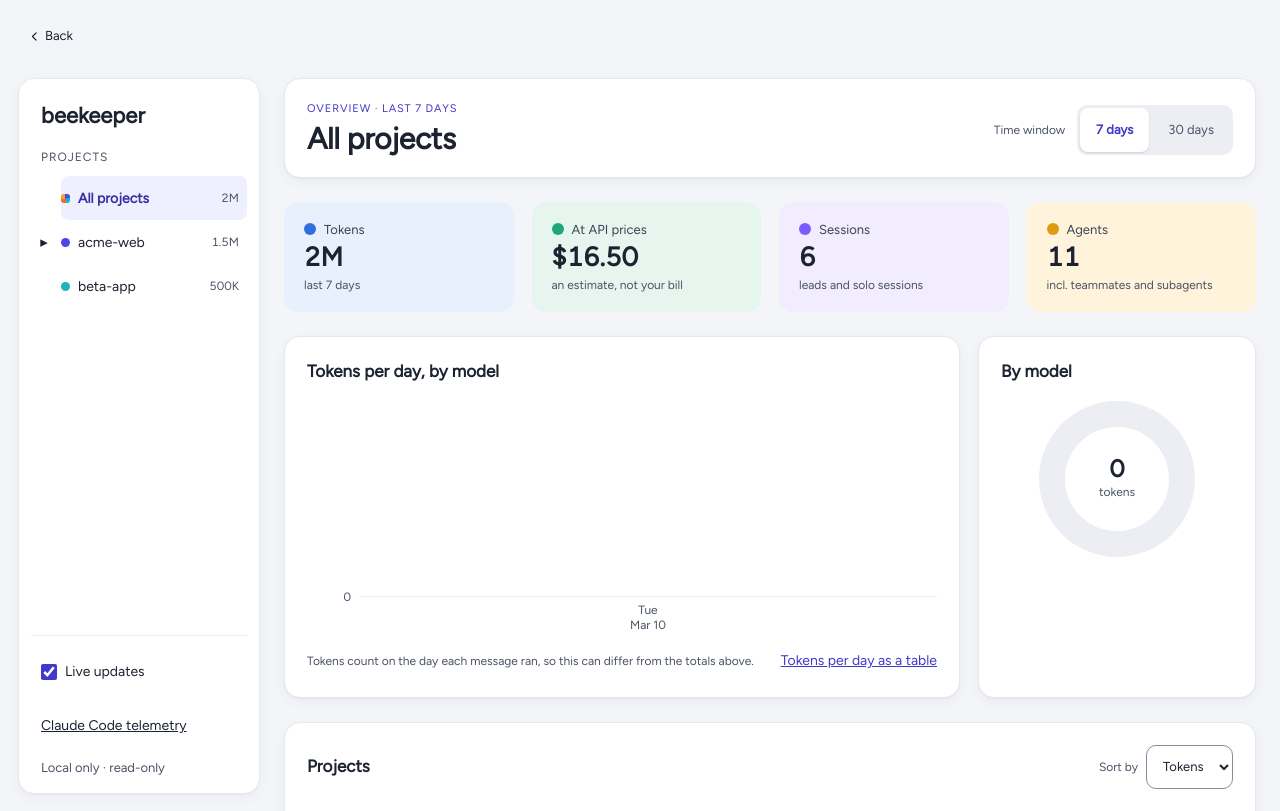
Test: OverviewView window › asks for the other window and relabels the kicker when 30 days is chosen
The width and height of the screenshot is (1280, 811).
Step 1. Click the radio button labelled "30 days" → x=1191, y=129, box [1168,122,1214,137]
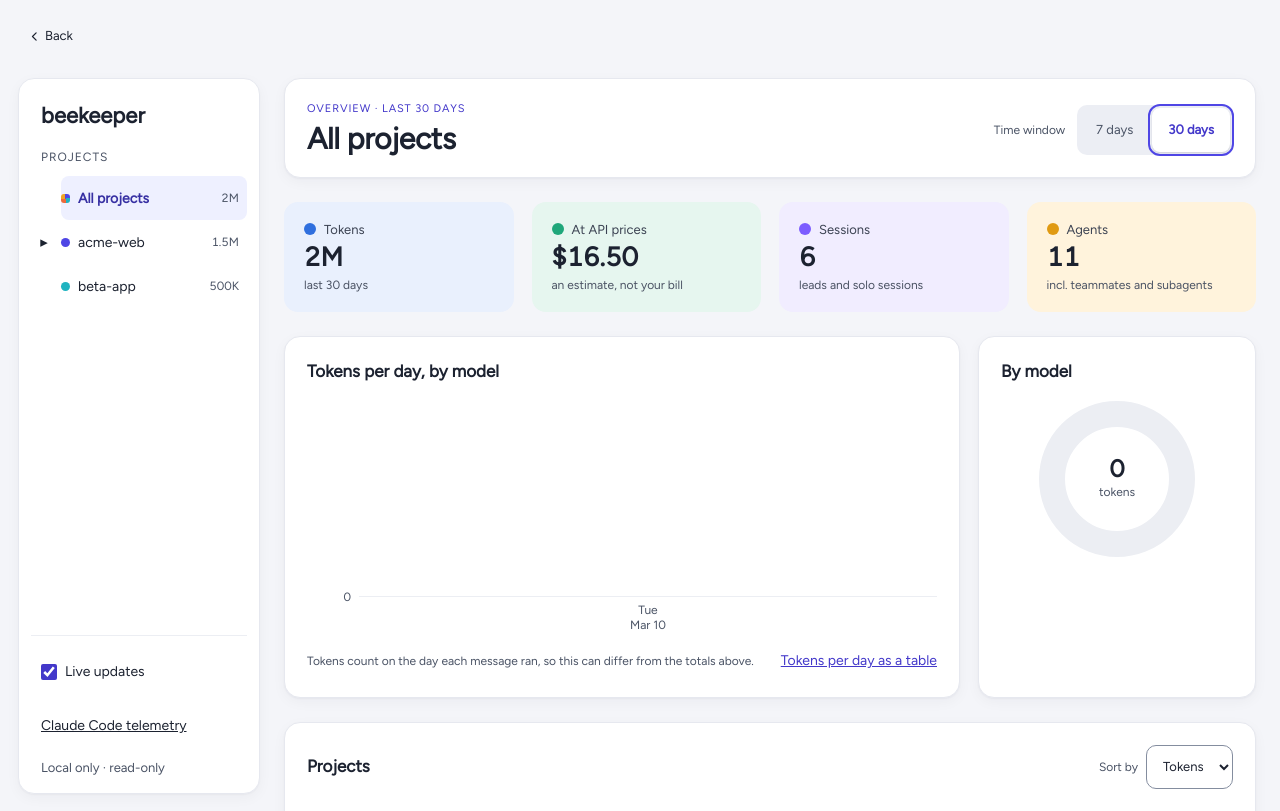
Expected: the text "Overview · last 30 days" is shown, [307,101,465,118]
